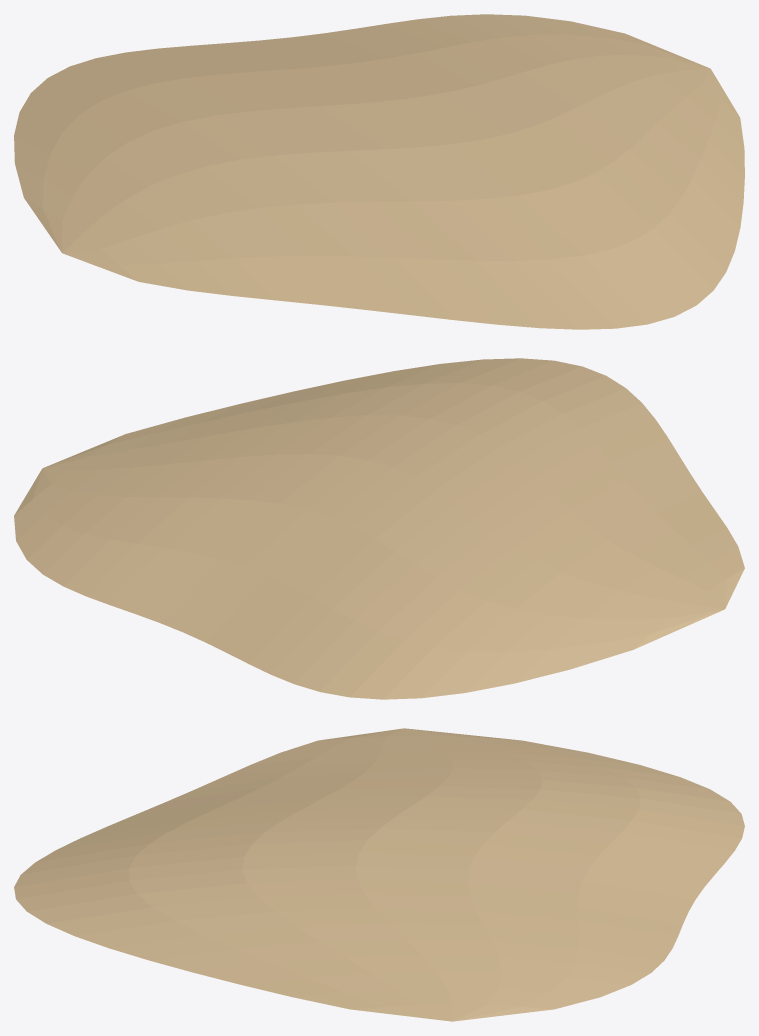
File: sand-drift.glb
3 renders of one model, top to bottom at view 1: azimuth 30°, elevation 25°; view 2: azimuth 150°, elevation 25°; view 3: azimuth 270°, elevation 25°, orthographic. The views are drawn at different scales.
Visible parts, largest first — view 1: Sand_Drift_Ribbon; view 2: Sand_Drift_Ribbon; view 3: Sand_Drift_Ribbon.
Boxes of the visible parts, x1=… form: Sand_Drift_Ribbon: x1=14, y1=14, x2=744, y2=329; Sand_Drift_Ribbon: x1=14, y1=358, x2=744, y2=699; Sand_Drift_Ribbon: x1=14, y1=728, x2=744, y2=1021.
Bounding box in the file's own units: 1 × 0.055 × 1.05.
